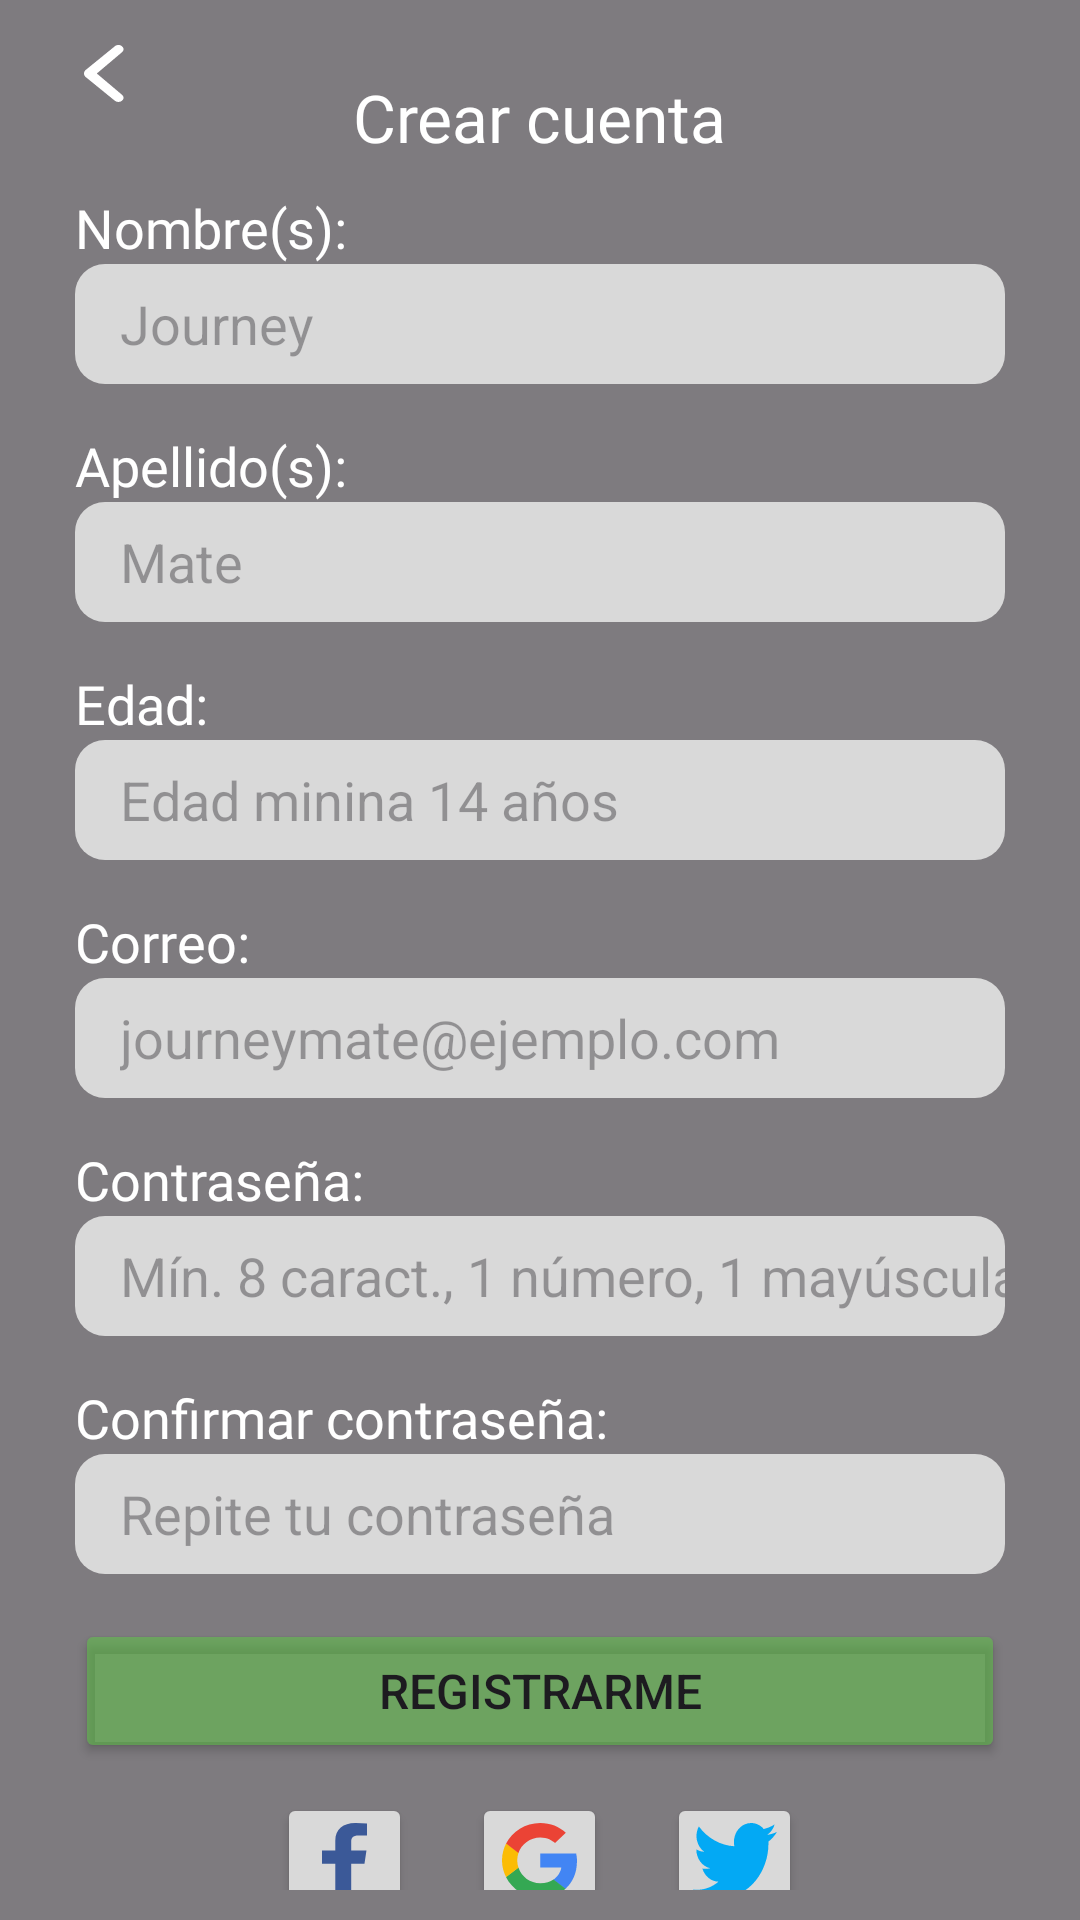

Icon bounding boxes for this 1080×1920 phone screenshot, format bbox(x1, y1, x2, y2):
return: bbox(84, 45, 124, 102)
